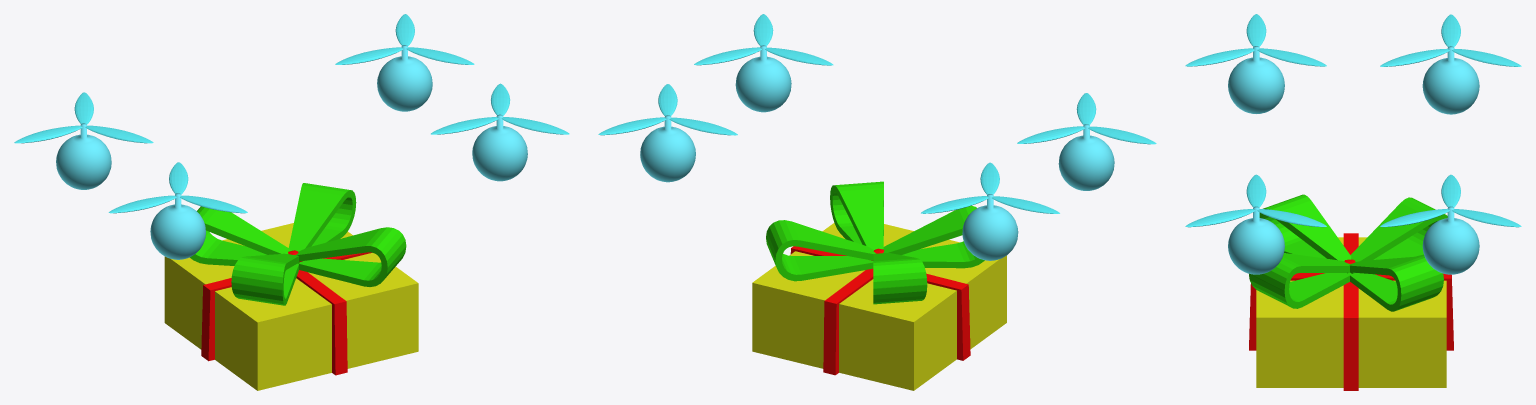
File: drone22.fbx
3 renders of one model, left to right at view 1: azimuth 30°, elevation 25°; view 2: azimuth 150°, elevation 25°; view 3: azimuth 270°, elevation 25°, orthographic. The views are drawn at different scales.
Parts seen in each view (by area): view 1: Cube, Sphere.002, Sphere.001, Sphere, Sphere.003, blade1, blade3, blade4, blade2; view 2: Cube, Sphere.001, Sphere, Sphere.003, Sphere.002, blade2, blade4, blade3, blade1; view 3: Cube, Sphere, Sphere.001, Sphere.002, Sphere.003, blade3, blade4, blade2, blade1.
Part boxes in pixels (left/top/right/bottom): Cube: left=164, top=183, right=418, bottom=390; Sphere.002: left=472, top=114, right=527, bottom=181; Sphere.001: left=377, top=45, right=432, bottom=111; Sphere: left=56, top=123, right=111, bottom=189; Sphere.003: left=150, top=193, right=205, bottom=259; blade1: left=14, top=92, right=153, bottom=143; blade3: left=108, top=162, right=247, bottom=213; blade4: left=431, top=83, right=569, bottom=134; blade2: left=335, top=14, right=474, bottom=64; Cube: left=752, top=181, right=1006, bottom=390; Sphere.001: left=640, top=115, right=695, bottom=182; Sphere: left=962, top=194, right=1018, bottom=260; Sphere.003: left=1058, top=124, right=1114, bottom=190; Sphere.002: left=735, top=45, right=791, bottom=112; blade2: left=598, top=84, right=737, bottom=135; blade4: left=694, top=14, right=833, bottom=65; blade3: left=1017, top=93, right=1156, bottom=144; blade1: left=921, top=162, right=1059, bottom=213; Cube: left=1249, top=194, right=1453, bottom=390; Sphere: left=1422, top=46, right=1479, bottom=114; Sphere.001: left=1422, top=206, right=1479, bottom=274; Sphere.002: left=1228, top=206, right=1284, bottom=274; Sphere.003: left=1228, top=46, right=1284, bottom=113; blade3: left=1185, top=14, right=1326, bottom=66; blade4: left=1185, top=174, right=1326, bottom=227; blade2: left=1380, top=174, right=1521, bottom=227; blade1: left=1380, top=14, right=1521, bottom=66.
Size of the model in its own units: 575 by 278 by 384.
